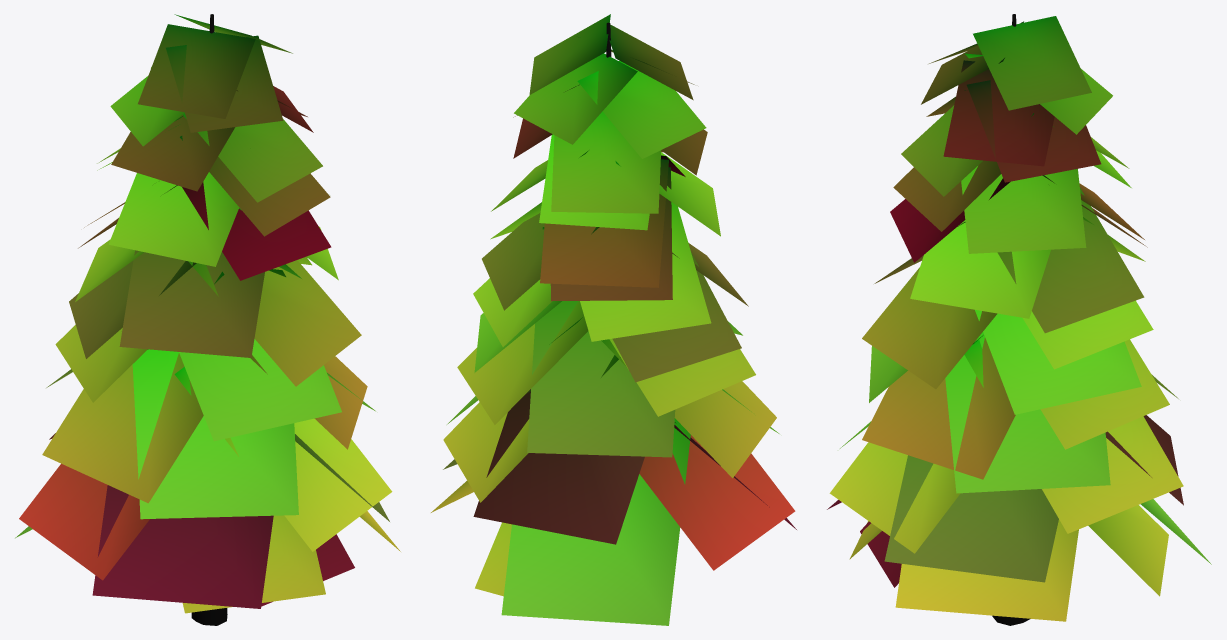
The model's file is Tree_1.fbx.
The picture shows the model from 3 angles, left to right: view 1: azimuth 30°, elevation 25°; view 2: azimuth 150°, elevation 25°; view 3: azimuth 270°, elevation 25°; orthographic projection. The views are drawn at different scales.
Parts seen in each view (by area): view 1: Tree_1; view 2: Tree_1; view 3: Tree_1.
Boxes of the visible parts, x1,y1,x2,y2 form: Tree_1: (15,14,400,625); Tree_1: (431,14,796,625); Tree_1: (827,14,1211,625).
Bounding box in the file's own units: 727 × 1322 × 765.
